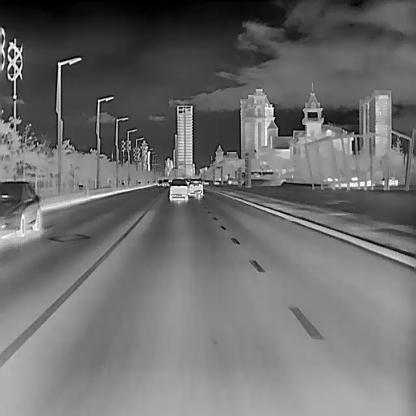car: (0, 181, 39, 236), (169, 179, 187, 200), (186, 178, 202, 196), (381, 176, 396, 186), (164, 179, 169, 187), (157, 180, 163, 186)
